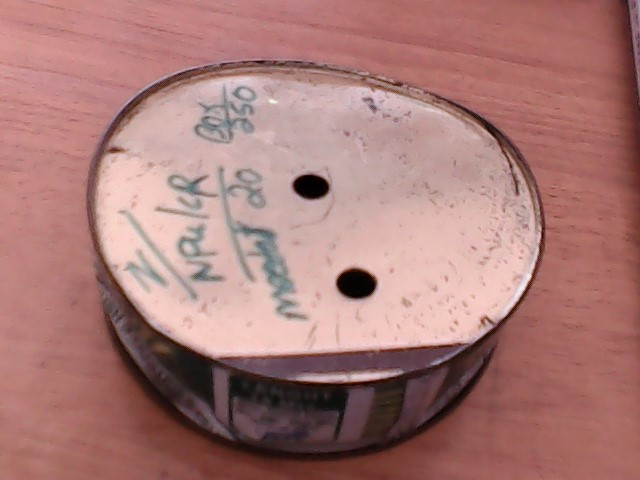Metal: (81, 59, 550, 480)
